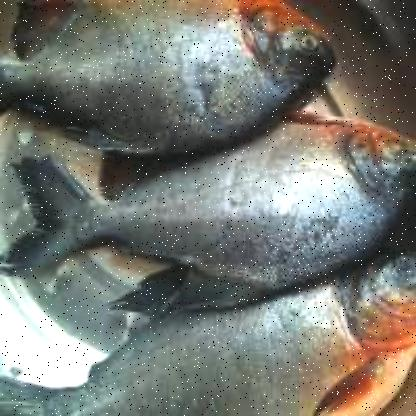ikan-pacu: (4, 120, 406, 288), (5, 260, 414, 416), (0, 0, 334, 142)
